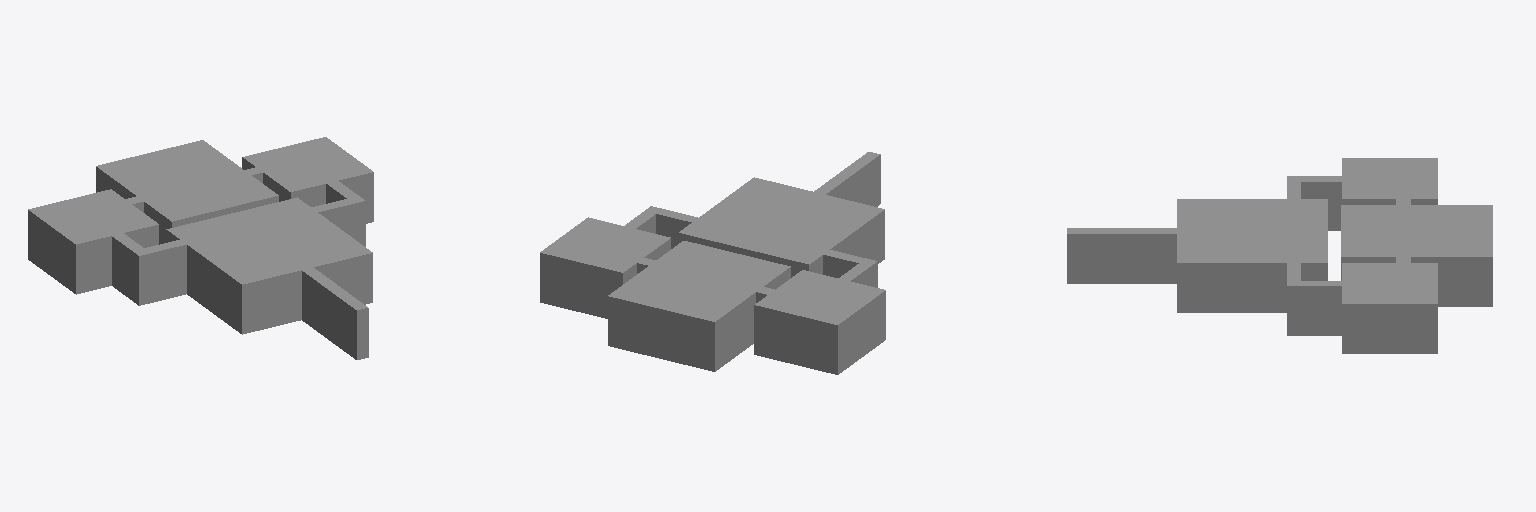
File: museum.obj
3 views of the same model, side by side, from view 1: azimuth 30°, elevation 25°; view 2: azimuth 150°, elevation 25°; view 3: azimuth 270°, elevation 25° (orthographic).
Visible parts, largest first — view 1: Map_Final_Mesh.002; view 2: Map_Final_Mesh.002; view 3: Map_Final_Mesh.002.
Boxes of the visible parts, x1=… form: Map_Final_Mesh.002: x1=28, y1=137, x2=373, y2=359; Map_Final_Mesh.002: x1=540, y1=152, x2=885, y2=374; Map_Final_Mesh.002: x1=1067, y1=158, x2=1492, y2=353.
Size of the model in its own units: 1.14 by 0.1818 by 1.41.